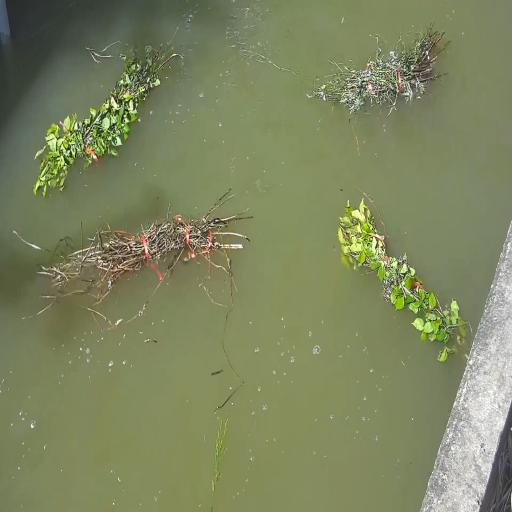twig: (38, 198, 252, 312), (33, 45, 177, 195), (338, 199, 465, 343), (314, 25, 444, 113)
